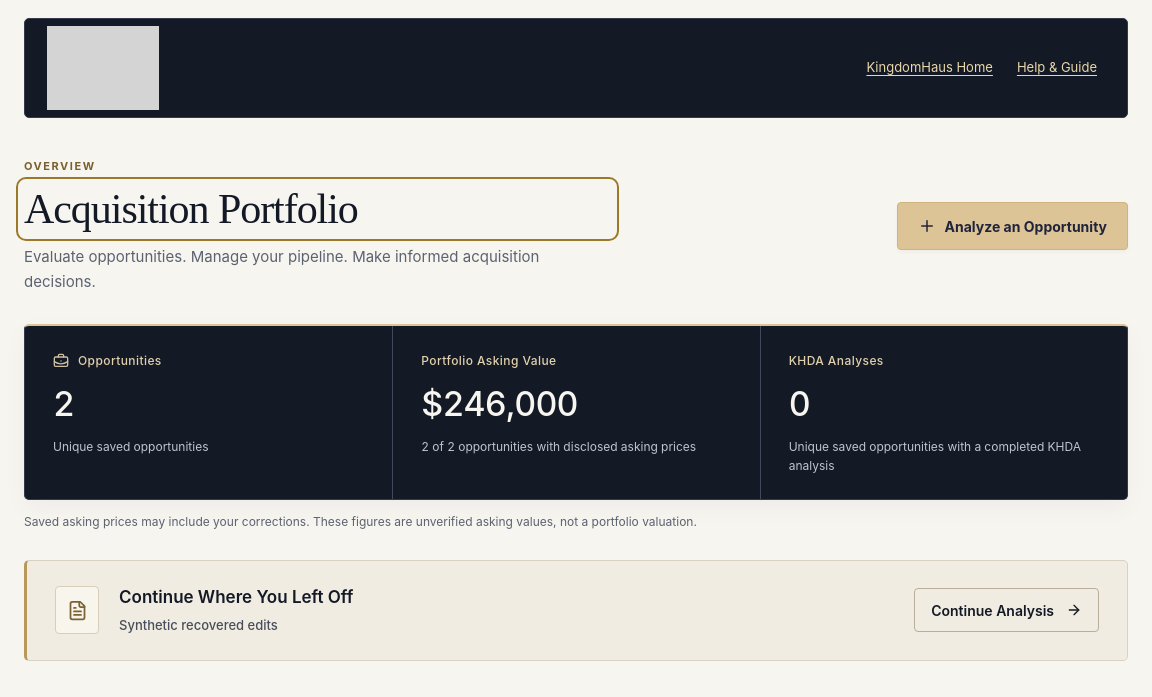
Test: Acquisition Workspace with a synthetic cloud repository › resumes and returns home without replacing edits, IDs, revisions, evidence or scenarios
Check: the heading "Acquisition Portfolio" is shown, box 24,186 -> 358,232
Click the button "Continue Analysis" at (1007, 610), box 914,588 -> 1099,632
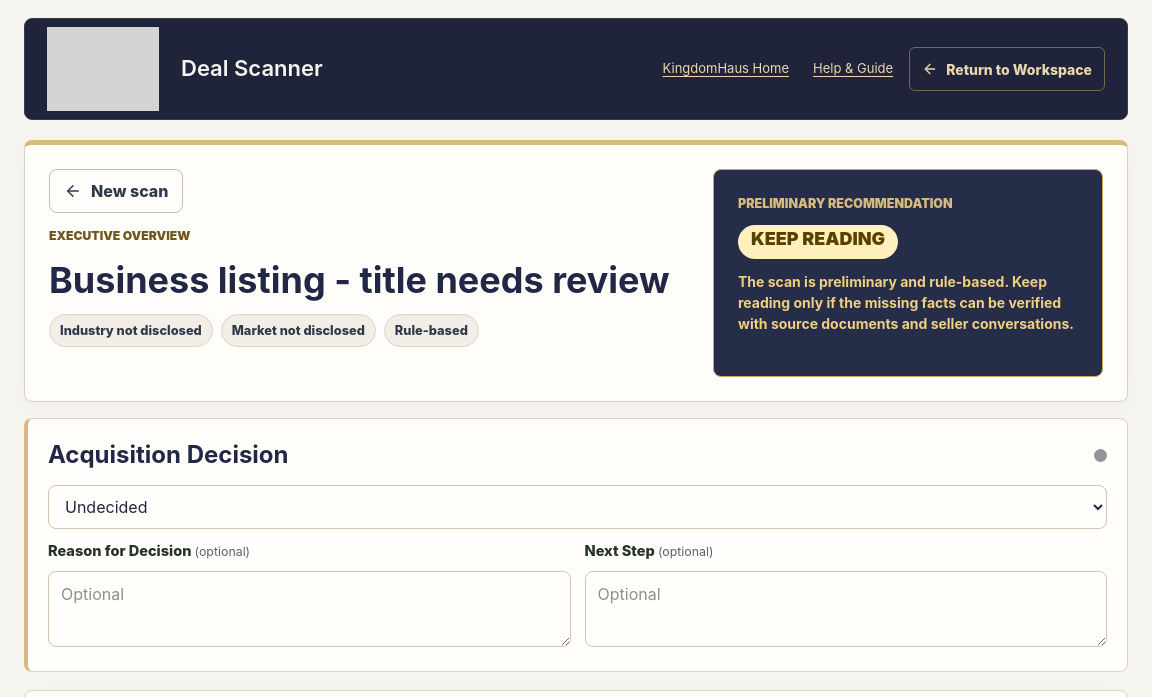
Click the button "Return to Workspace" at (1007, 69), box 909,47 -> 1105,91
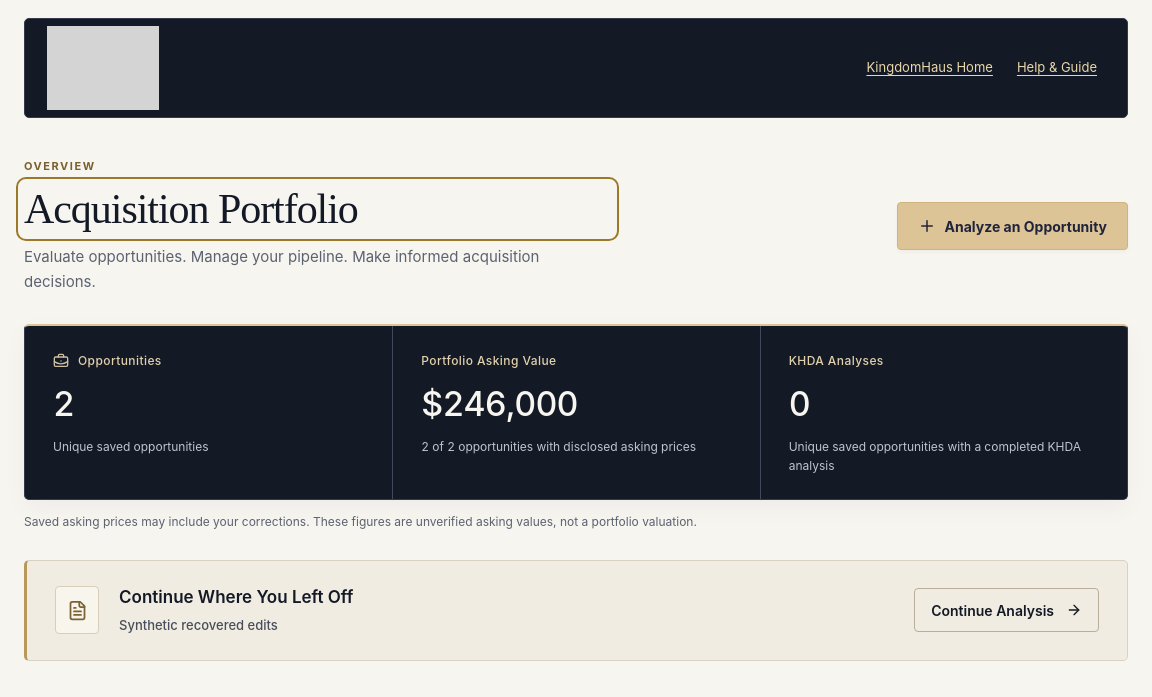
Check: the heading "Acquisition Portfolio" is shown, box 24,186 -> 358,232
